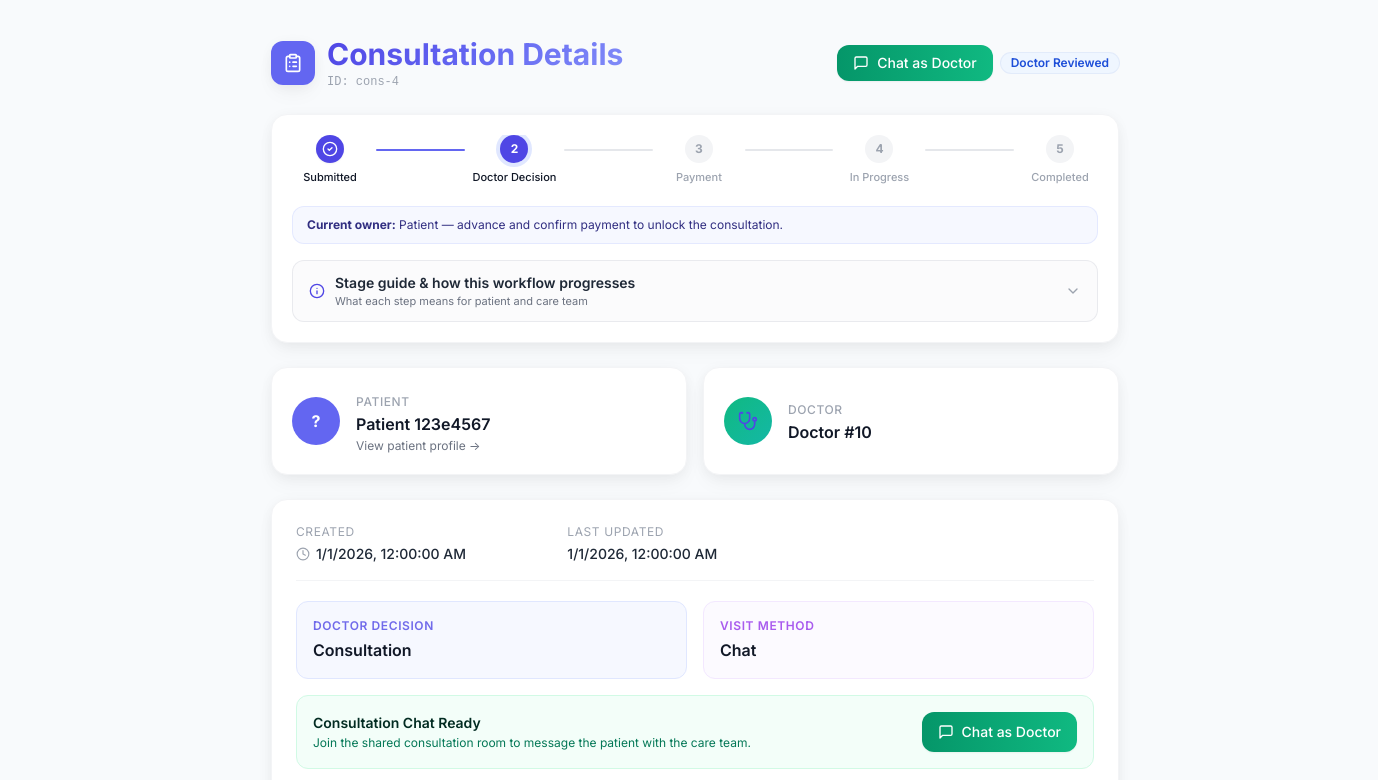
Scenario: Client audit bugfix regressions › ConsultationDetailPage full lifecycle actions › shows "Chat as Doctor" on CHAT consultation for permitted nurse and opens shared room
Click the button "Chat as Doctor" next to "Doctor Reviewed" at (915, 63), box [837,45,993,81]
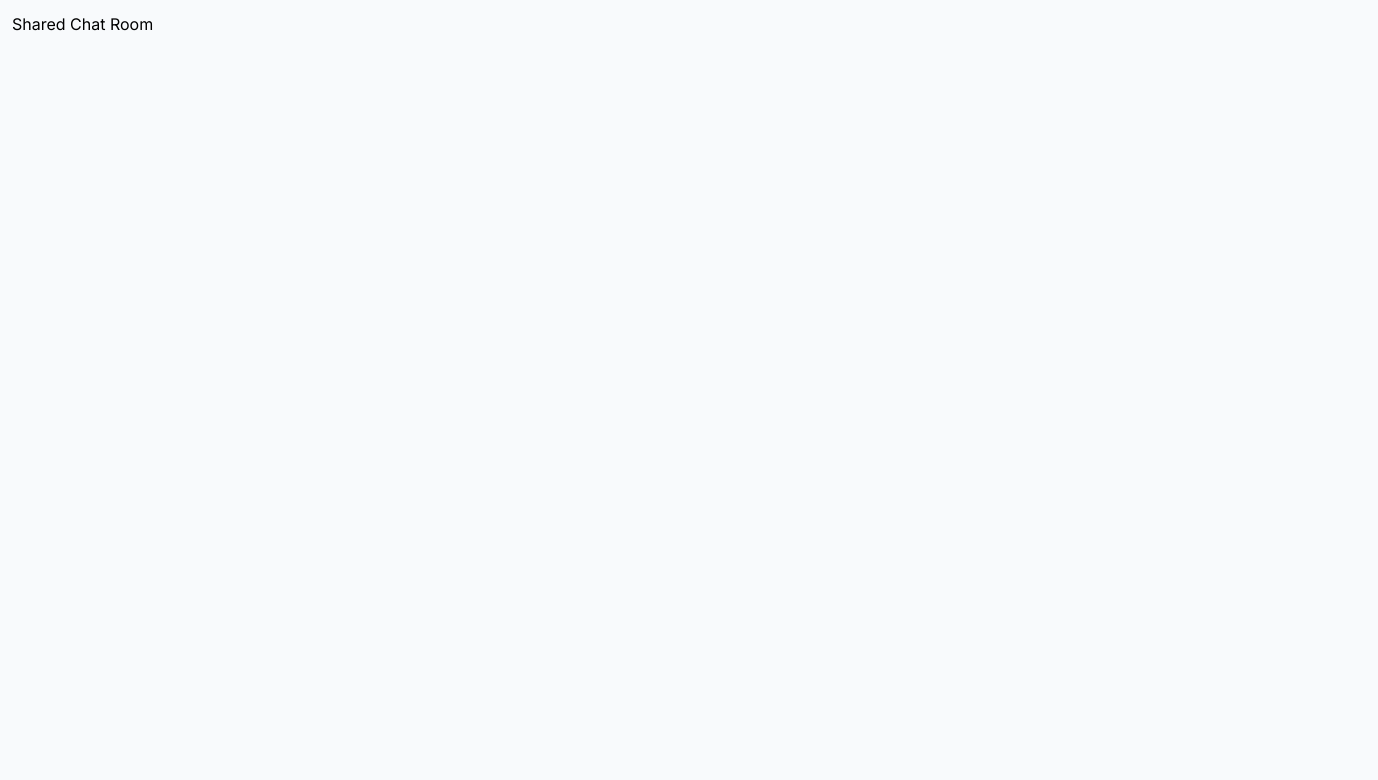
Expected: the text "Shared Chat Room" is shown, [12,14,153,34]
